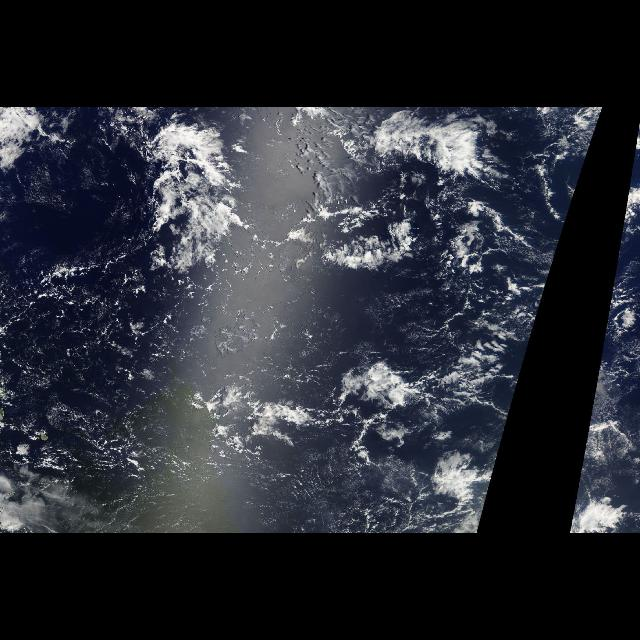Fish: (114, 118, 256, 282), (327, 113, 508, 205)
Gravel: (11, 256, 299, 388)
